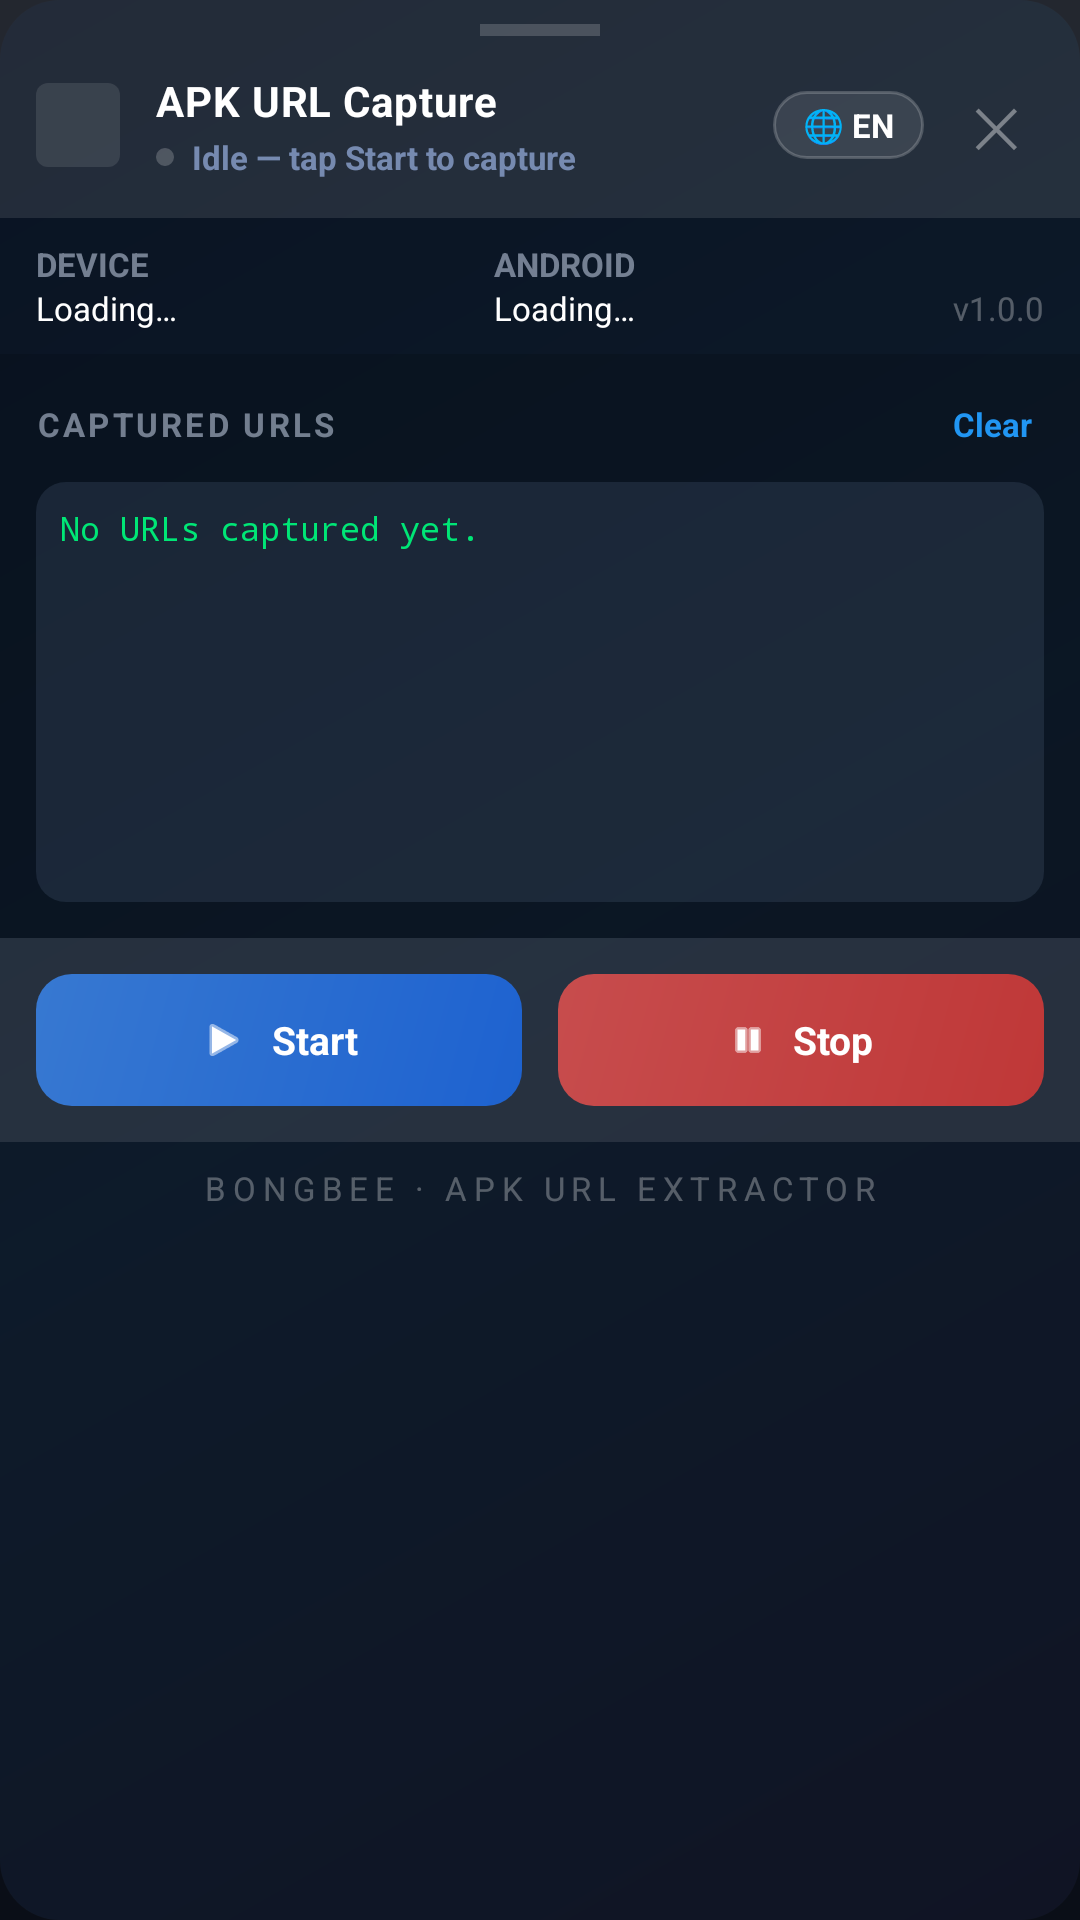

Named icons in this screenshot (1080 x 1920) and their centers, (x=x, y=y):
pause: (x=748, y=1040)
play: (x=224, y=1040)
